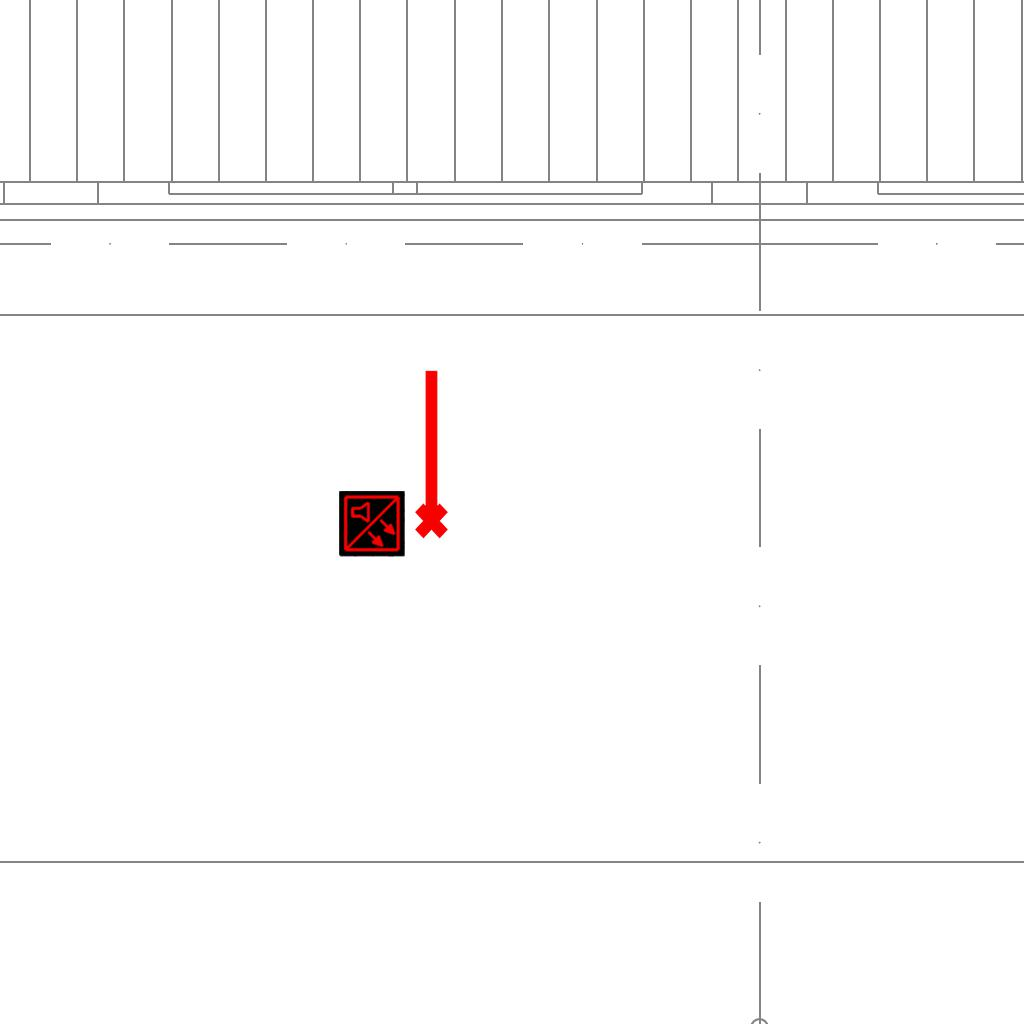ASR_Ansaugoeffnung: (406, 365, 452, 541)
OKW_Multisensormelder_(Kombination_optischer_Rauch-Kahlenmonoxid_Waerme-Melder): (339, 491, 405, 557)
